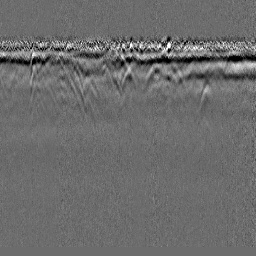cavity: (121, 65, 136, 92)
